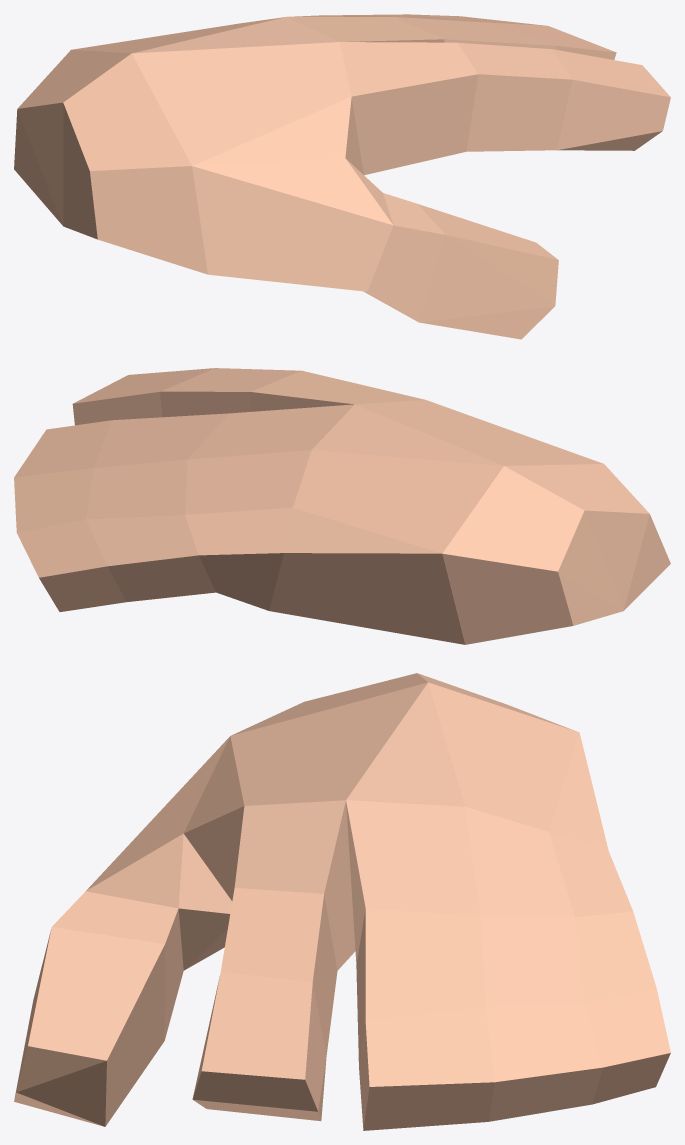
Rendered from Chr_HandLeft_Male_00_Static.fbx.
3 renders of one model, top to bottom at view 1: azimuth 30°, elevation 25°; view 2: azimuth 150°, elevation 25°; view 3: azimuth 270°, elevation 25°, orthographic. The views are drawn at different scales.
Parts seen in each view (by area): view 1: Chr_HandLeft_Male_00_Static; view 2: Chr_HandLeft_Male_00_Static; view 3: Chr_HandLeft_Male_00_Static.
Boxes of the visible parts, x1,y1,x2,y2 form: Chr_HandLeft_Male_00_Static: (14,14,670,339); Chr_HandLeft_Male_00_Static: (14,368,670,644); Chr_HandLeft_Male_00_Static: (14,673,670,1130).
Bounding box in the file's own units: 0.2335 × 0.0952 × 0.188.
